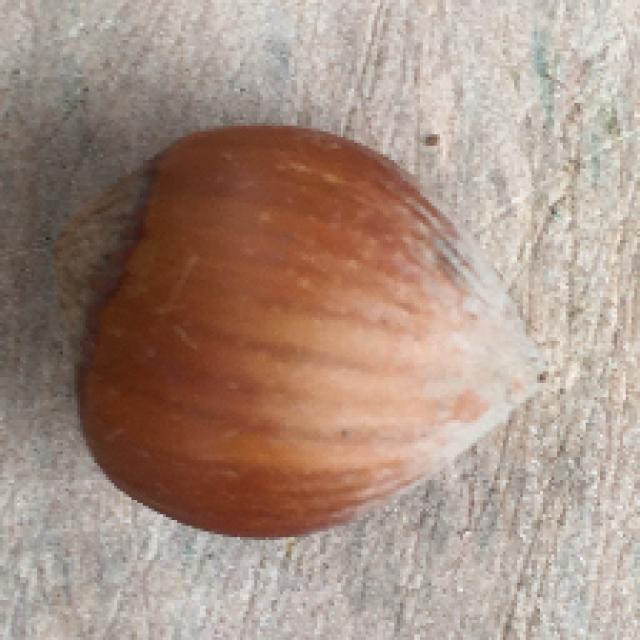qualityHazelnut: (49, 121, 554, 541)
